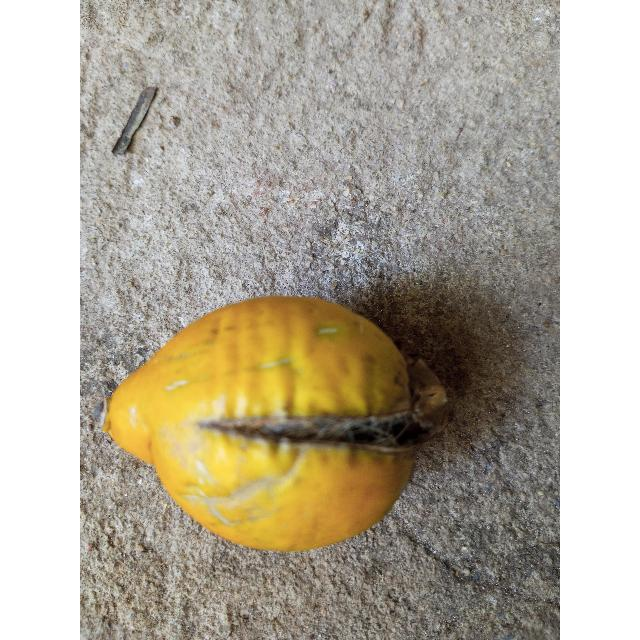damaged: (95, 296, 448, 551)
